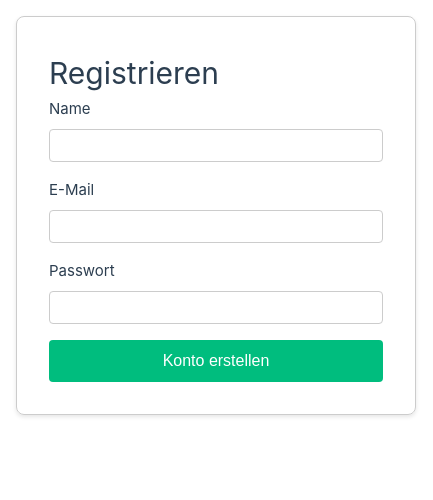
Test case: RegisterView.vue › sollte eine Fehlermeldung anzeigen, wenn die Registrierung fehlschlägt
This screenshot has width=433, height=500.
Type "myName" into the field labelled "Name" at (216, 146), box 49,129 -> 383,162
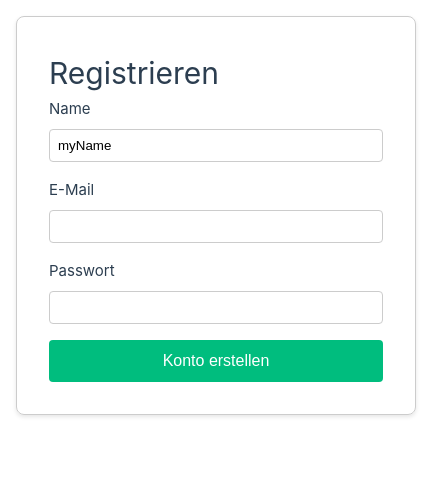
Type "test@test.com" into the field labelled "E-Mail" at (216, 226), box 49,210 -> 383,243
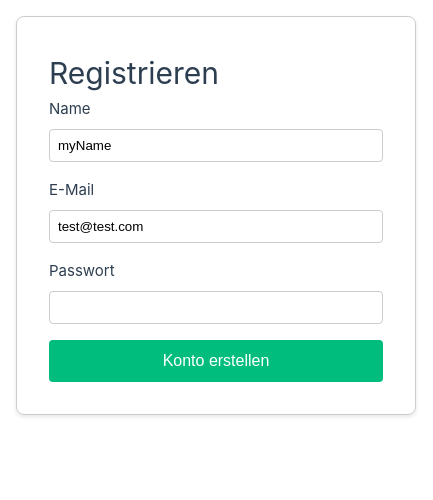
Type "password" into the password field labelled "Passwort" at (216, 308), box 49,291 -> 383,324
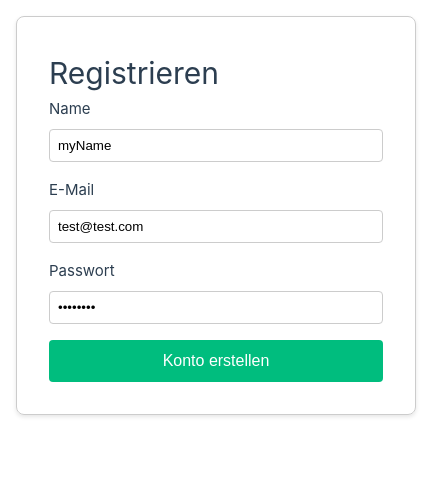
Submit the form, box 49,97 -> 383,382
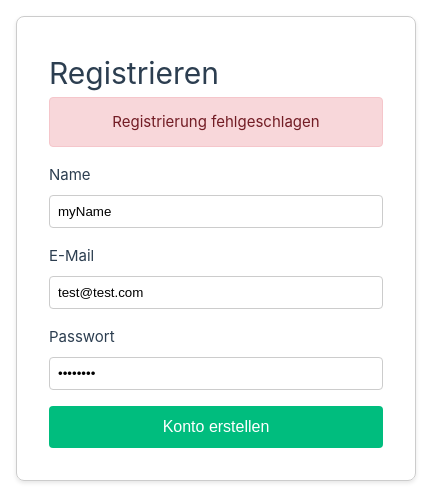
Now the text "Registrierung fehlgeschlagen" is shown, box 49,97 -> 383,147
Now the text with class "error-message" reads "Registrierung fehlgeschlagen", box 112,112 -> 320,131
